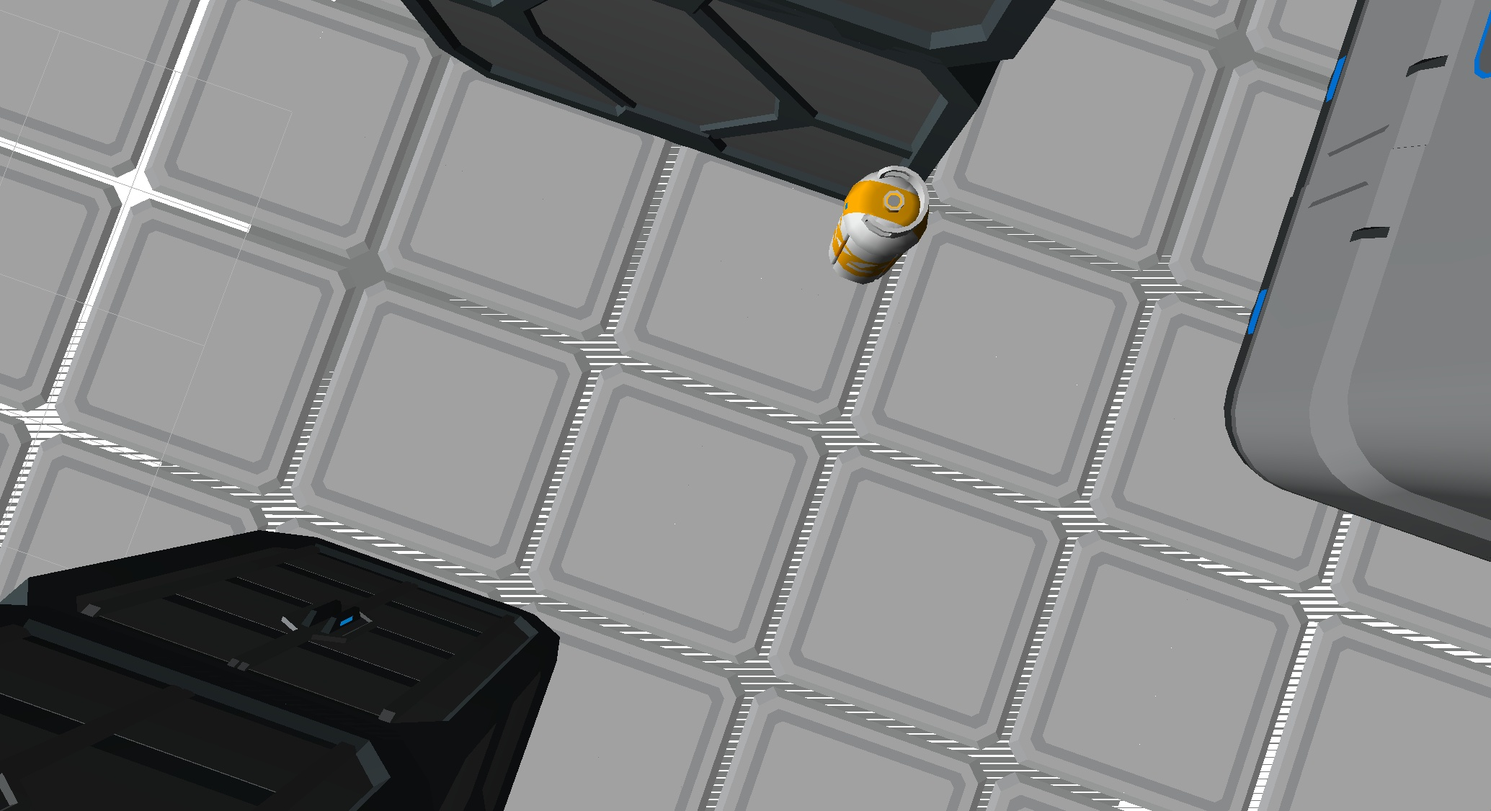yellow_barrel: (832, 166, 927, 282)
